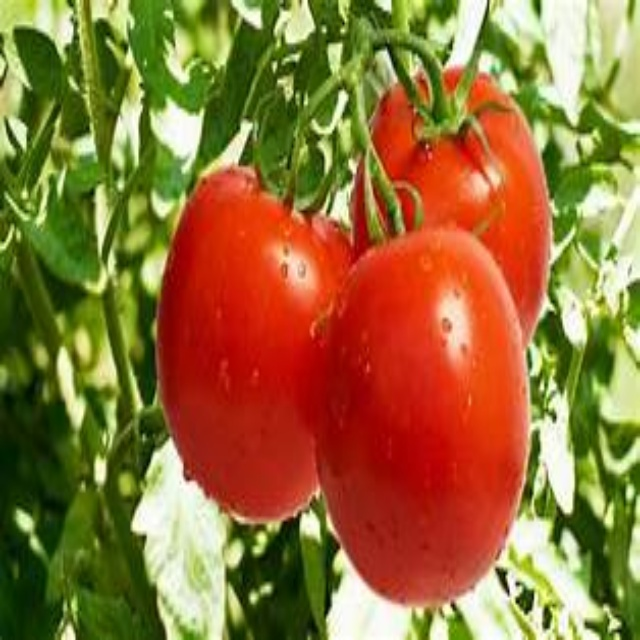tomato: (319, 227, 526, 611), (155, 164, 375, 520), (353, 72, 554, 341)
